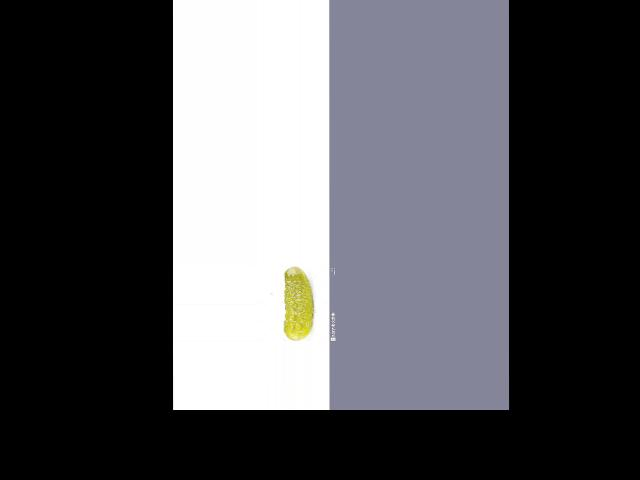cucumber: (283, 265, 313, 340)
